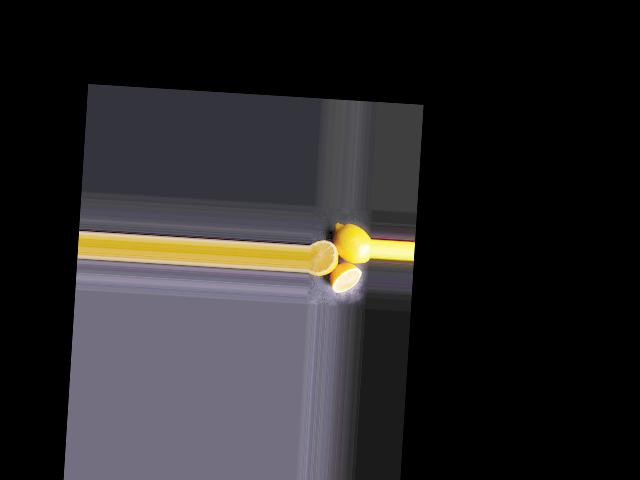lemon: (333, 219, 371, 266)
